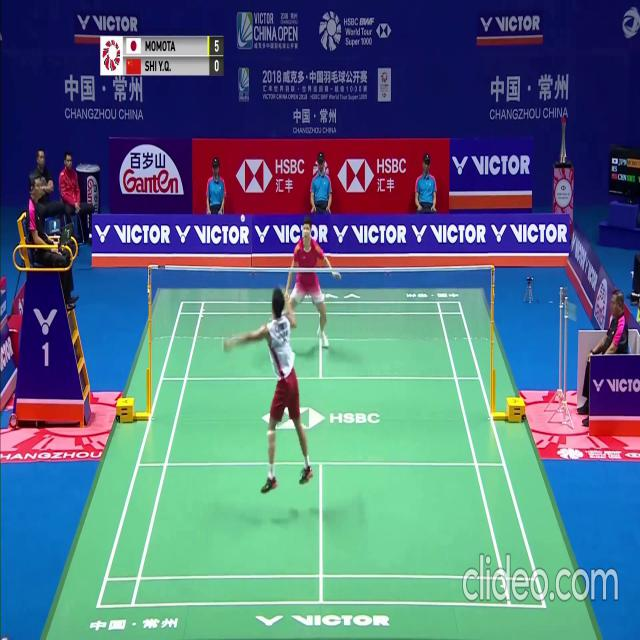Shuttlecock: (240, 215, 245, 222)
